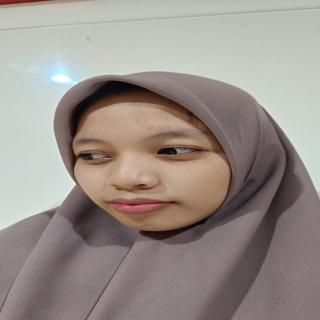Sedih: (63, 90, 254, 242)
